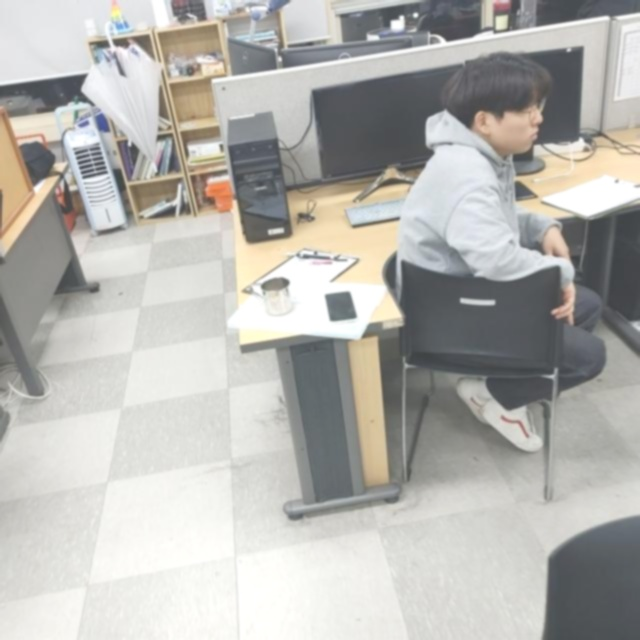cup: (249, 277, 294, 318)
phone: (324, 291, 357, 325)
